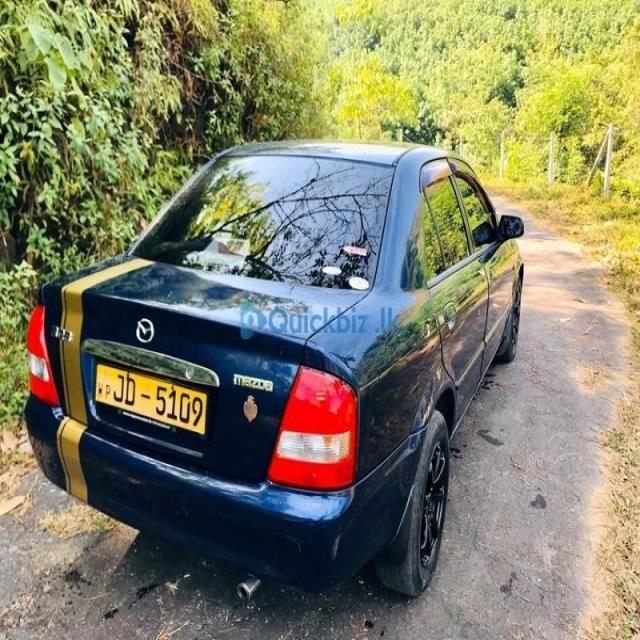license-plate: (90, 359, 206, 445)
